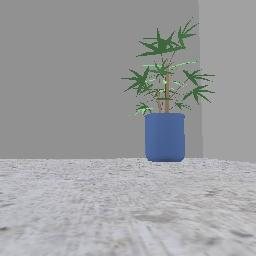planta: (122, 20, 214, 161)
